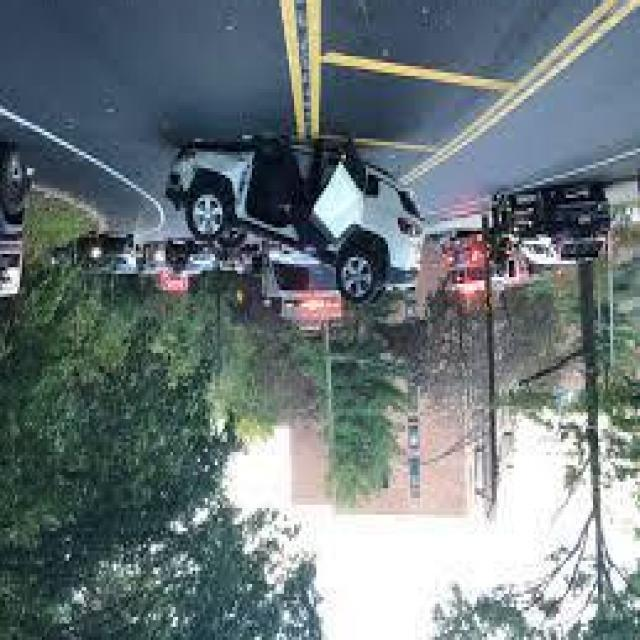severe: (158, 130, 433, 305)
